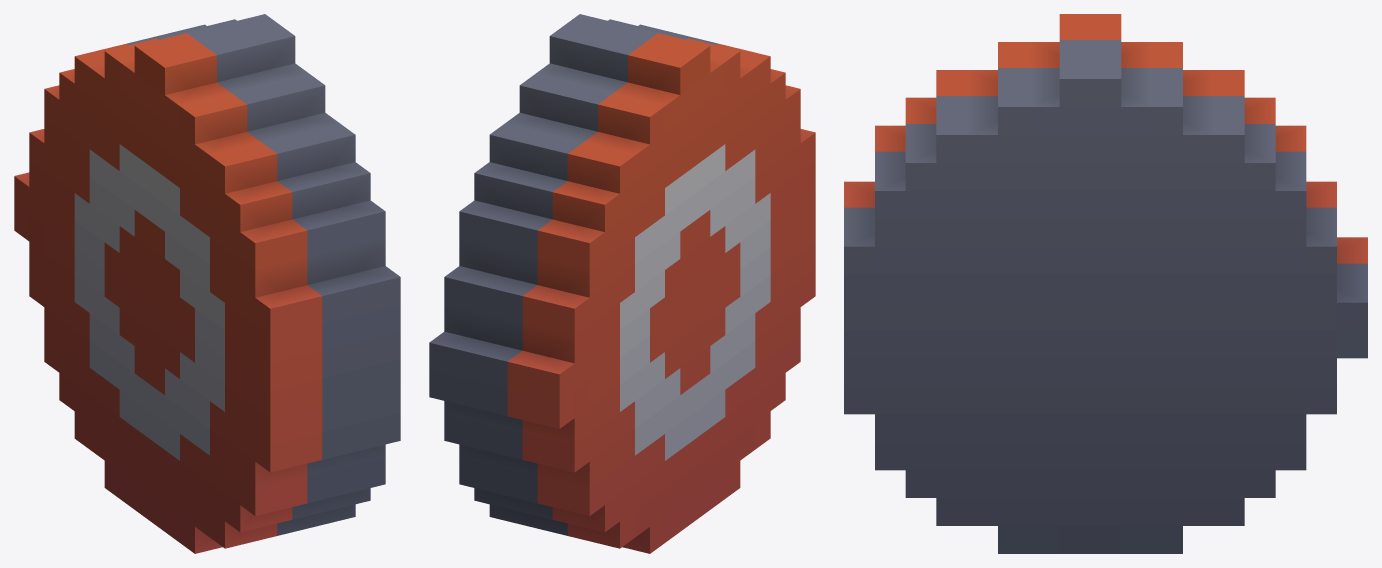
Rendered from target.glb.
3 renders of one model, left to right at view 1: azimuth 30°, elevation 25°; view 2: azimuth 150°, elevation 25°; view 3: azimuth 270°, elevation 25°, orthographic. The views are drawn at different scales.
Parts seen in each view (by area): view 1: voxels; view 2: voxels; view 3: voxels.
Part boxes in pixels (x1,y1,x2,y2): voxels: (14, 14, 400, 553); voxels: (429, 14, 815, 553); voxels: (844, 14, 1367, 553).
Bounding box in the file's own units: 0.1062 × 0.3612 × 0.3612.
